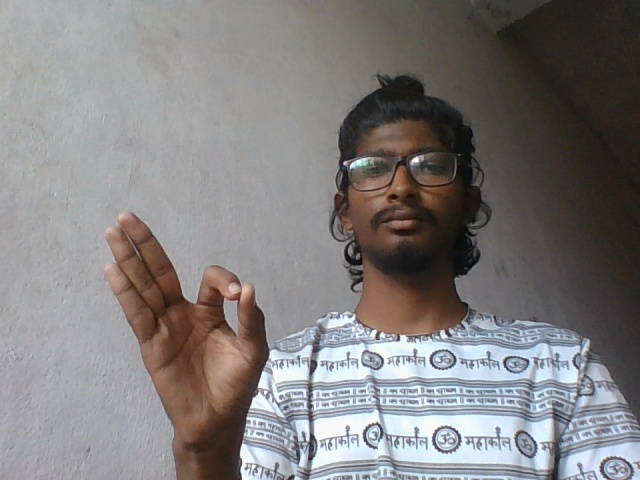Washroom: (98, 206, 278, 455)
